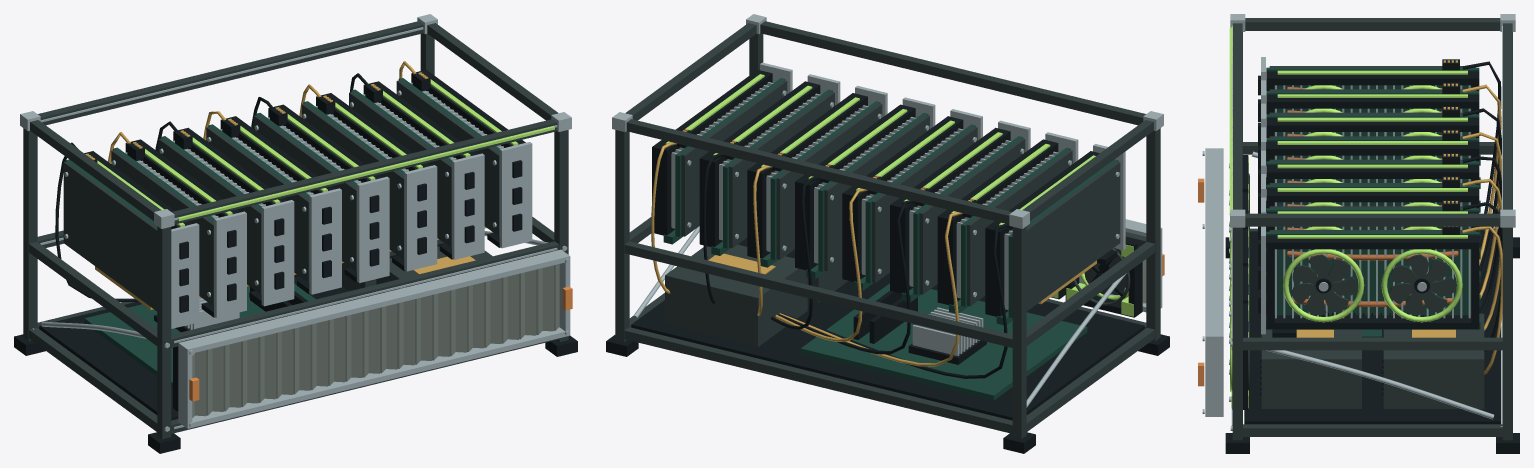
File: rig-8-pleated-none.glb
The picture shows the model from 3 angles, left to right: view 1: azimuth 30°, elevation 25°; view 2: azimuth 150°, elevation 25°; view 3: azimuth 270°, elevation 25°; orthographic projection.
Parts seen in each view (by area): view 1: Brushed aluminium (×10), Anodized graphite, gpu-dual (×8), Filter fibres, Rubber and ABS (×9), Circuit board, rig-8-pleated-none, slot-cable-1; view 2: Anodized graphite, Rubber and ABS (×10), gpu-dual (×8), Brushed aluminium (×10), Circuit board, slot-cable-1, slot-cable-2, slot-cable-3, slot-cable-4, slot-cable-5, Lime accents, Contacts (+2 smaller); view 3: Anodized graphite (×3), Rubber and ABS (×10), gpu-dual (×8), Lime accents (×8), Brushed aluminium (×3), Copper heat pipes, Contacts, rig-8-pleated-none, Circuit board, slot-cable-8, slot-cable-1, slot-cable-2 (+6 smaller).
Part boxes in pixels (x1,y1,x2,y2): Brushed aluminium (×10): (20, 14, 571, 431); Anodized graphite: (23, 21, 568, 438); gpu-dual (×8): (63, 78, 499, 311); Filter fibres: (192, 264, 559, 417); Rubber and ABS (×9): (14, 69, 577, 453); Circuit board: (84, 283, 315, 387); rig-8-pleated-none: (177, 126, 554, 221); slot-cable-1: (55, 142, 298, 301); Anodized graphite: (615, 21, 1160, 438); Rubber and ABS (×10): (606, 69, 1169, 453); gpu-dual (×8): (675, 78, 1120, 317); Brushed aluminium (×10): (612, 14, 1163, 407); Circuit board: (663, 230, 1087, 400); slot-cable-1: (781, 223, 1009, 378); slot-cable-2: (779, 212, 962, 366); slot-cable-3: (778, 200, 915, 354); slot-cable-4: (775, 188, 867, 342); slot-cable-5: (771, 177, 820, 329); Lime accents: (1066, 244, 1133, 316); Contacts: (708, 253, 775, 274); Anodized graphite (×3): (1232, 18, 1512, 440); Rubber and ABS (×10): (1225, 59, 1519, 453); gpu-dual (×8): (1266, 66, 1479, 315); Lime accents (×8): (1277, 70, 1467, 322); Brushed aluminium (×3): (1205, 14, 1515, 430); Copper heat pipes: (1287, 251, 1458, 306); Contacts: (1296, 329, 1455, 337); rig-8-pleated-none: (1229, 27, 1232, 214); Circuit board: (1266, 154, 1480, 337); slot-cable-8: (1462, 226, 1502, 374); slot-cable-1: (1462, 61, 1501, 247); slot-cable-2: (1462, 84, 1501, 265).
Bounding box in the file's own units: 6.06 × 3.24 × 4.01.
